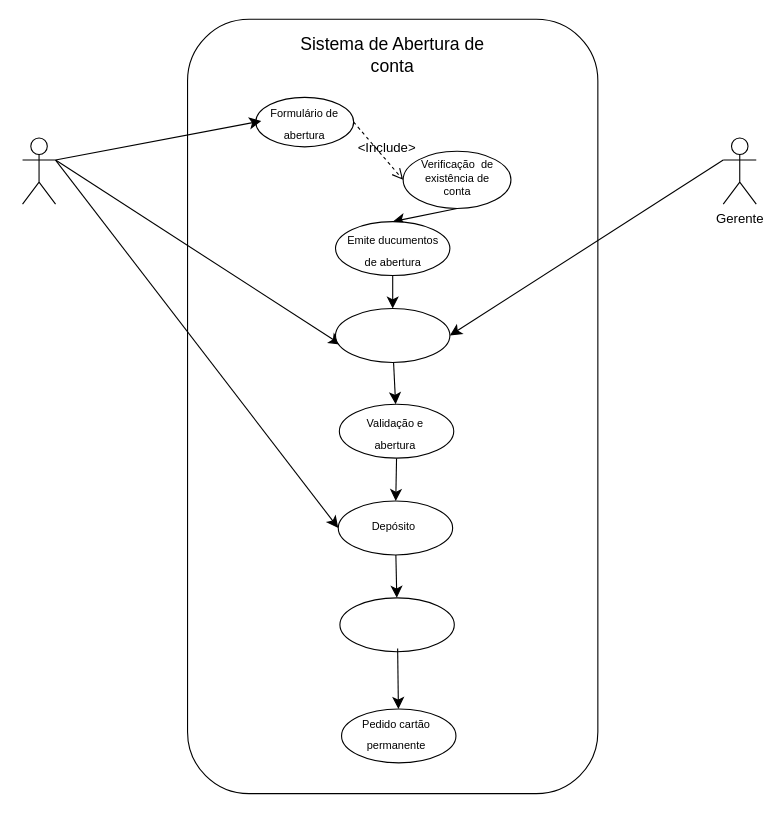
The diagram is 782 pixels wide and 813 high, and some of its shapes have lost their labels. Each missing label, with the box of its shape:
Aprovação e assinatura: (334, 307, 450, 362)
Cliente: (21, 137, 56, 204)
Emissão cartão provisório: (339, 597, 454, 652)
